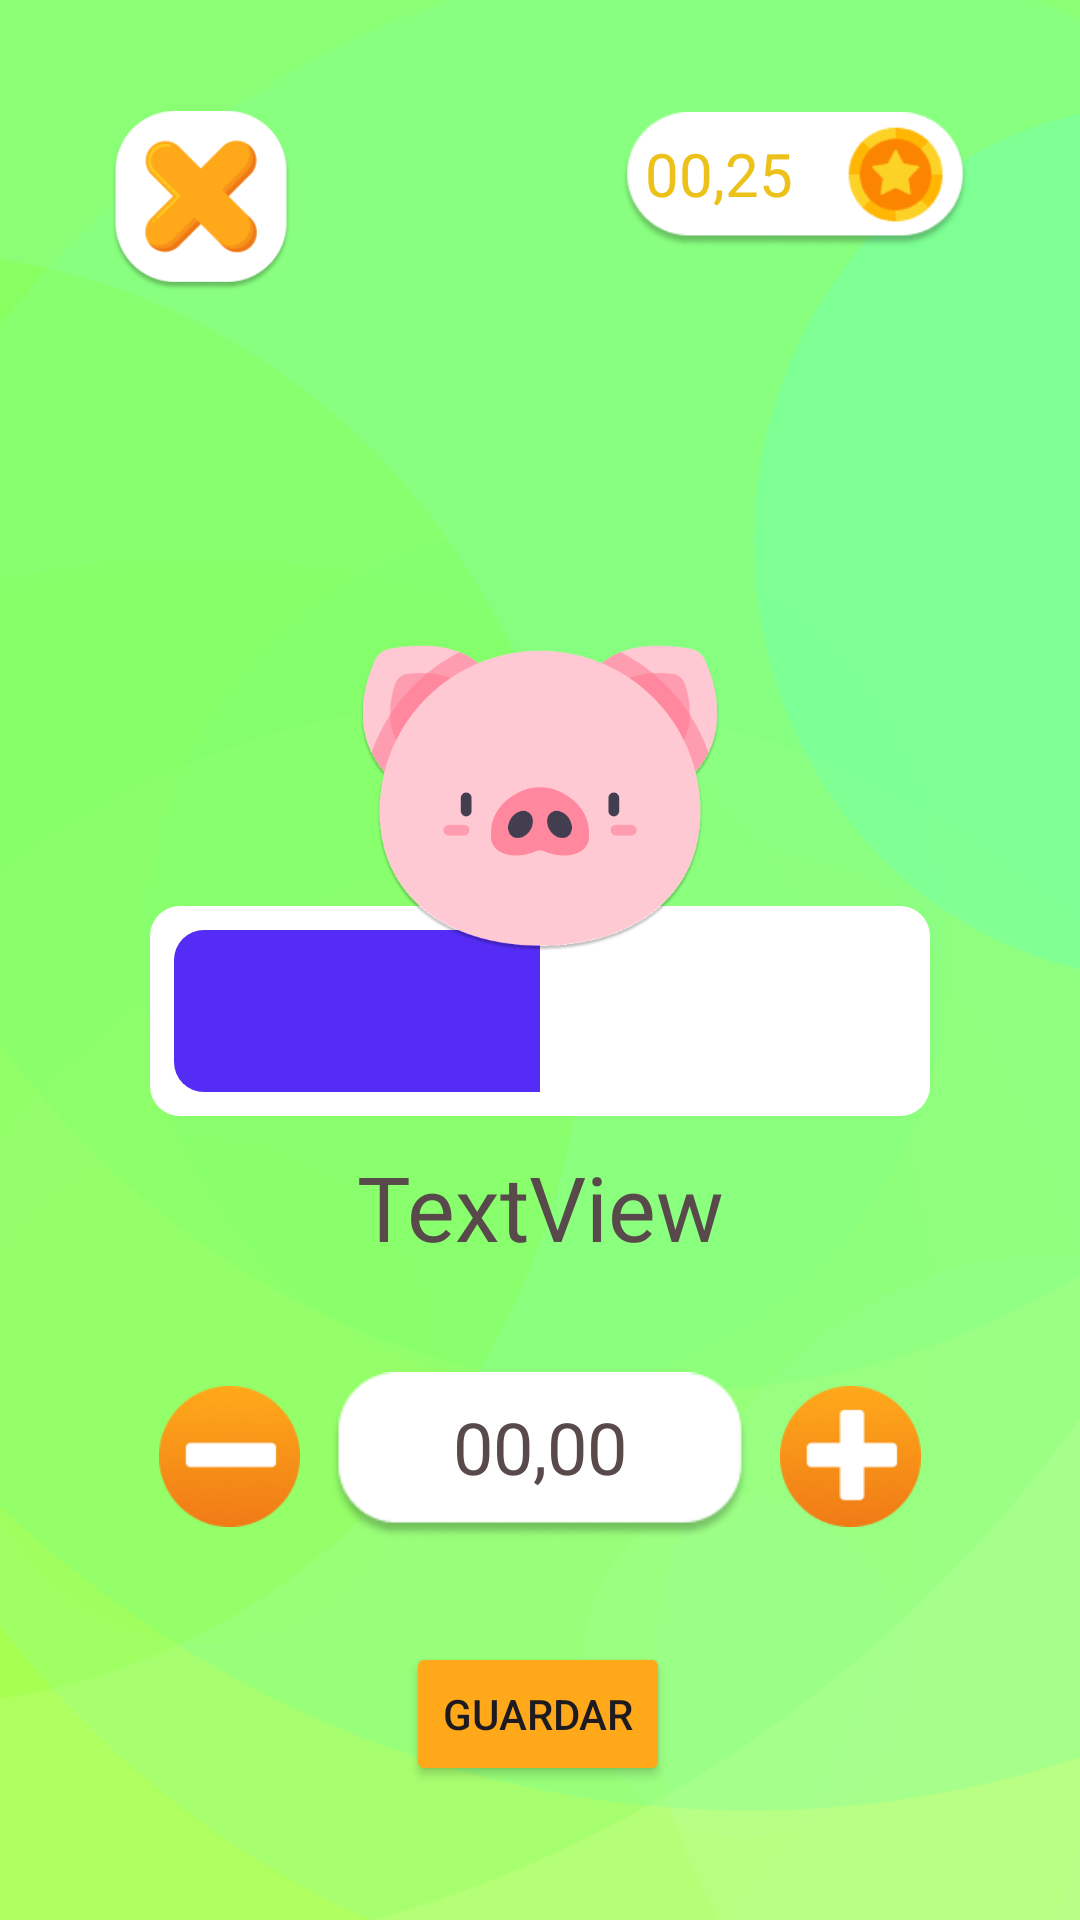

Icon bounding boxes for this 1080 × 1920 phone screenshot, format {"x1": x1, "y1": y1, "x2": x2, "y2": y2}:
close: {"x1": 115, "y1": 111, "x2": 287, "y2": 287}
minus: {"x1": 159, "y1": 1386, "x2": 300, "y2": 1527}
plus: {"x1": 780, "y1": 1386, "x2": 921, "y2": 1527}
